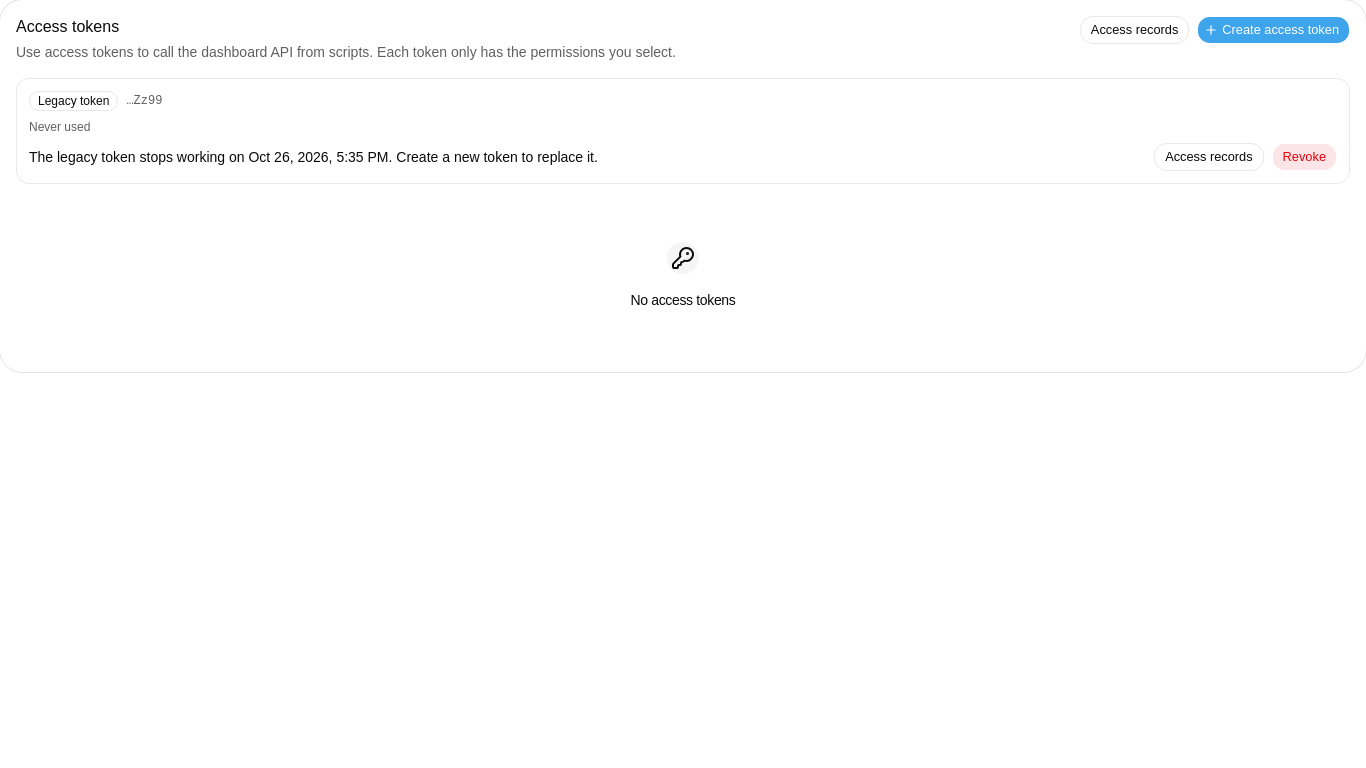
it: access tokens card › shows the legacy stop date and offers revocation and records for it
Expected: the text "Legacy token" is shown, [29,91,118,111]
Expected: the text "…Zz99" is shown, [126,93,162,109]
Click the 2nd button "Access records": [1209, 157] box [1154,143,1264,171]
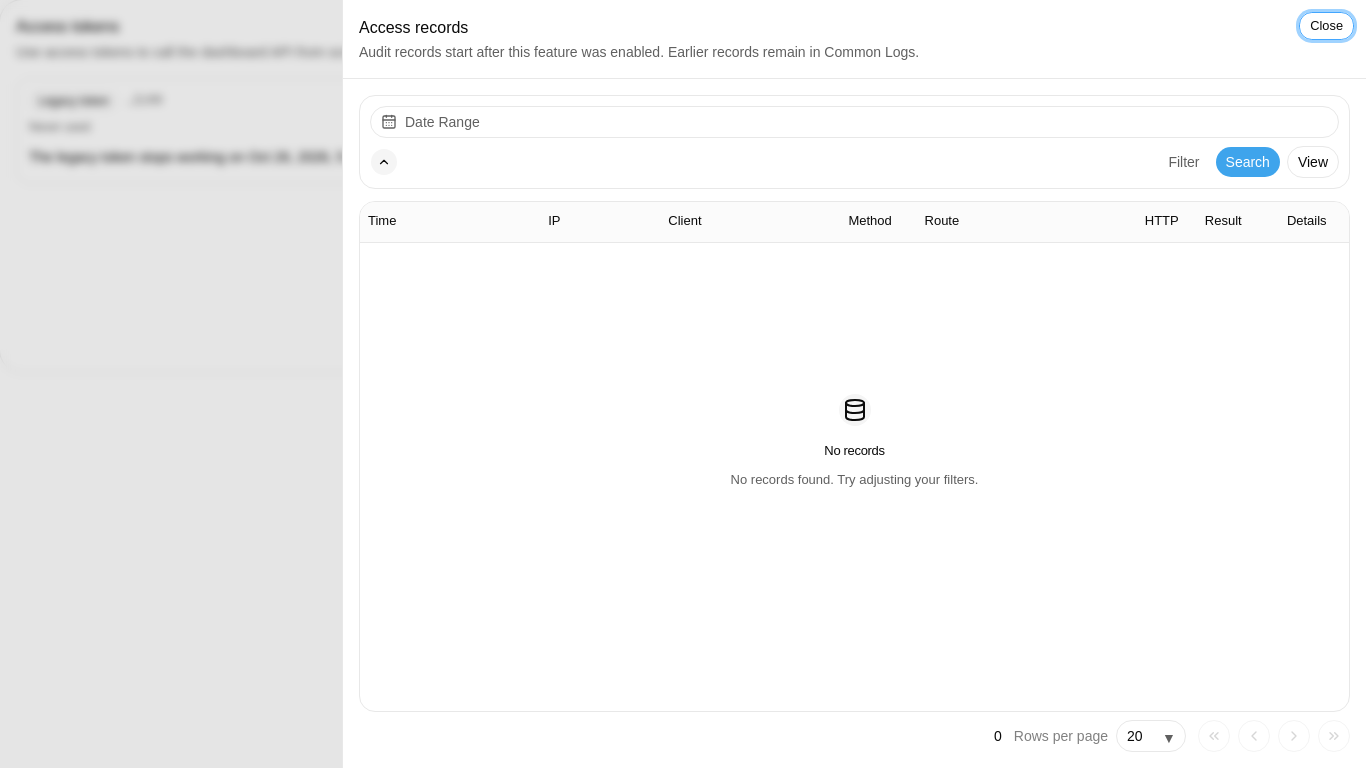
Result: the dialog "Access records" is shown
